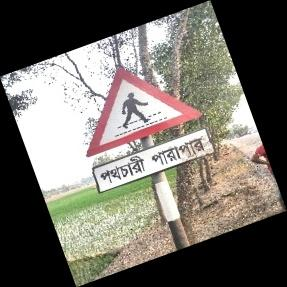Pedestrian-crossing: (85, 67, 212, 198)
